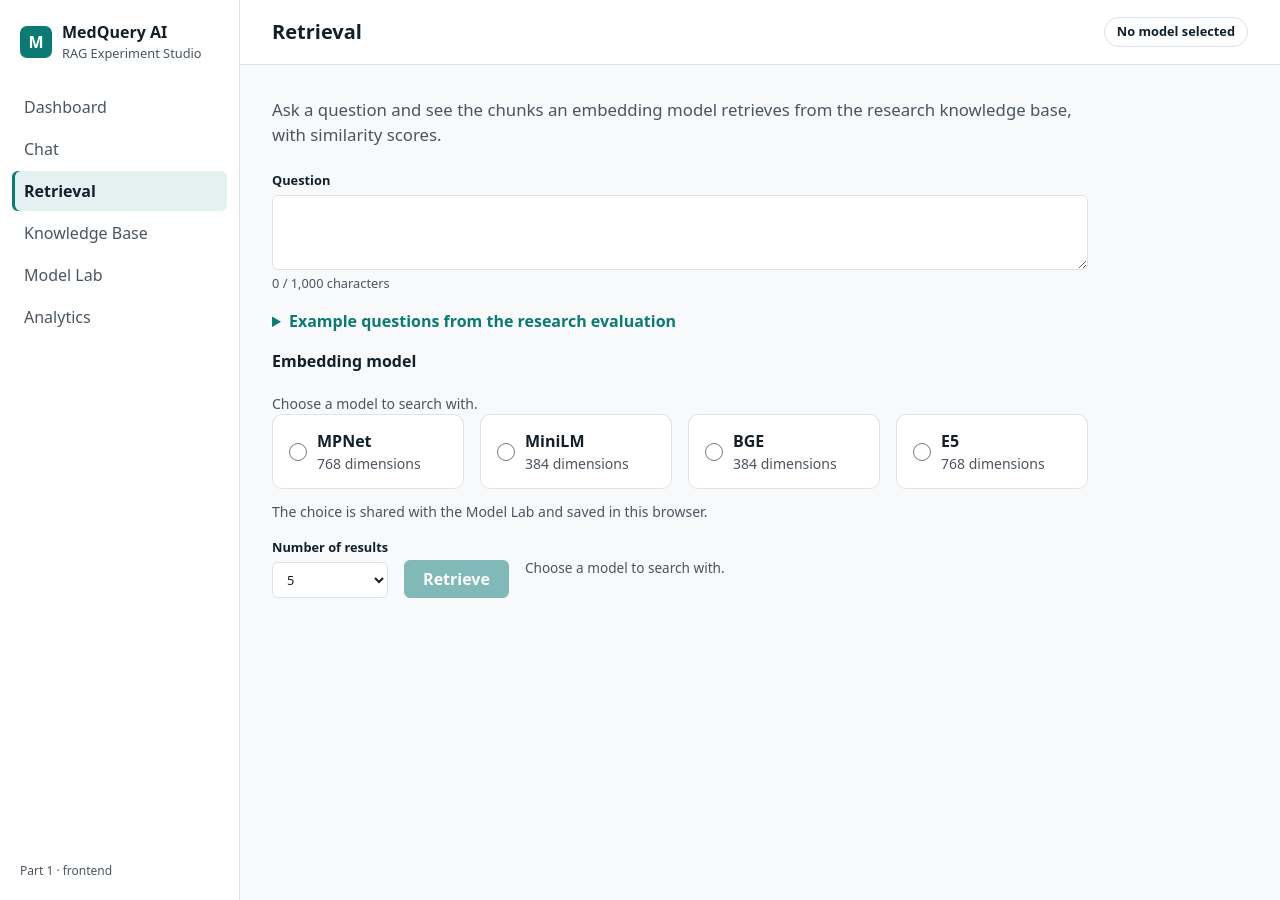
Test case: Retrieval form › asks for a model and keeps Retrieve disabled until a question and model are given
Expected: the element "Embedding model" shows "Choose a model to search with.", [272,394,478,413]
Expected: the button "Retrieve" is disabled, [404,560,509,598]
In the text box labelled "Question": point(680, 232) [272,195,1088,270], type "What causes migraines?"
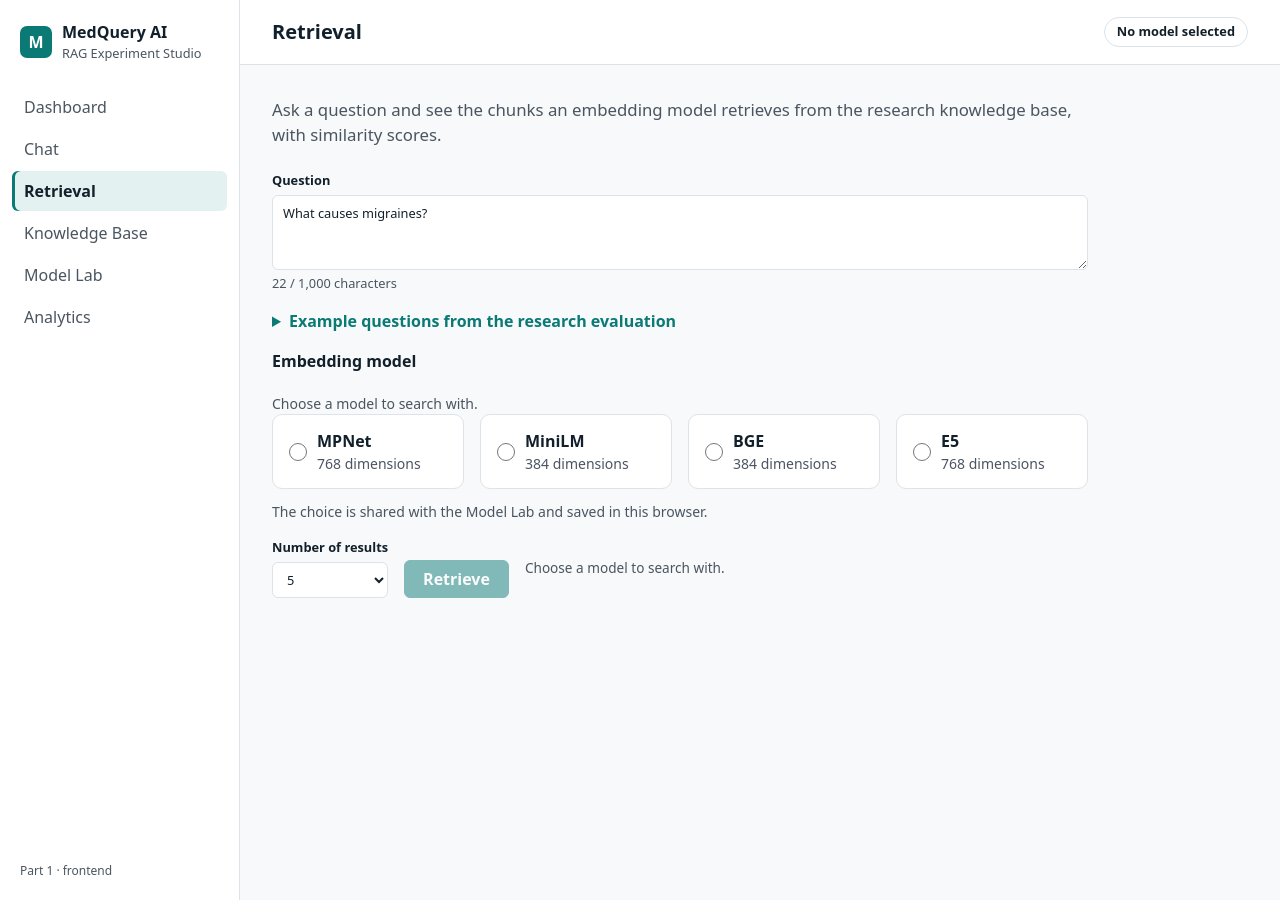
Expected: the button "Retrieve" is disabled, [404,560,509,598]
Click the radio button labelled "MPNet": point(298, 452) [289,443,307,461]
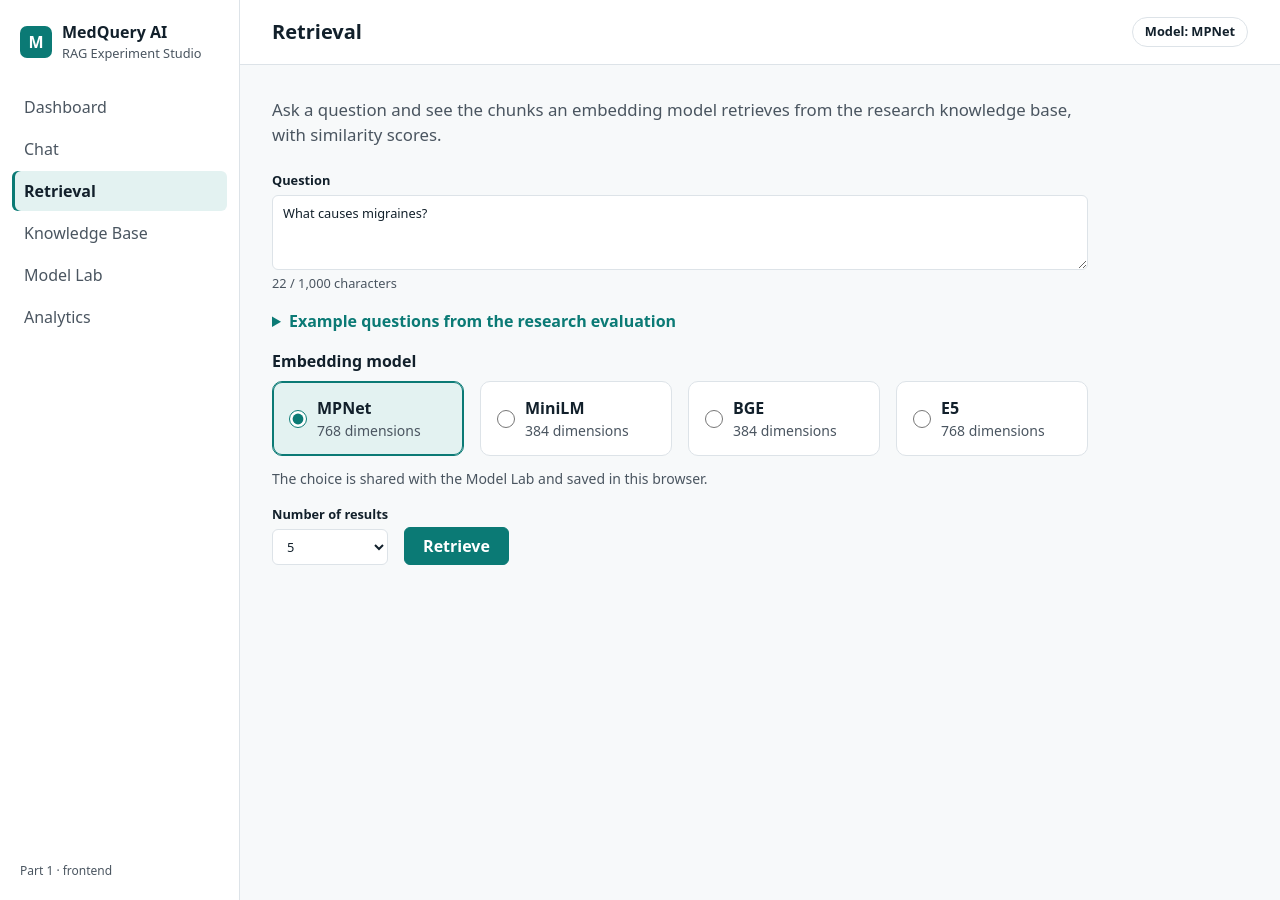
Expected: the text "MPNet" is shown, [317,397,372,419]
Expected: the button "Retrieve" is enabled, [404,526,509,564]
Expected: the link "Model: MPNet" is shown, [1132,17,1248,47]
